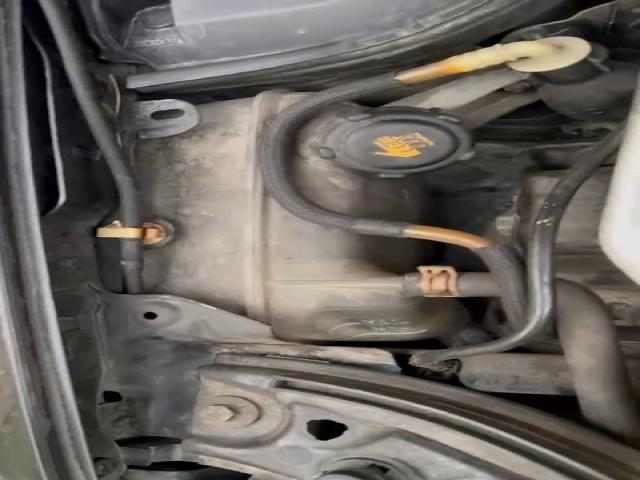antifreeze_tank: (135, 90, 466, 340), (294, 104, 473, 223)
